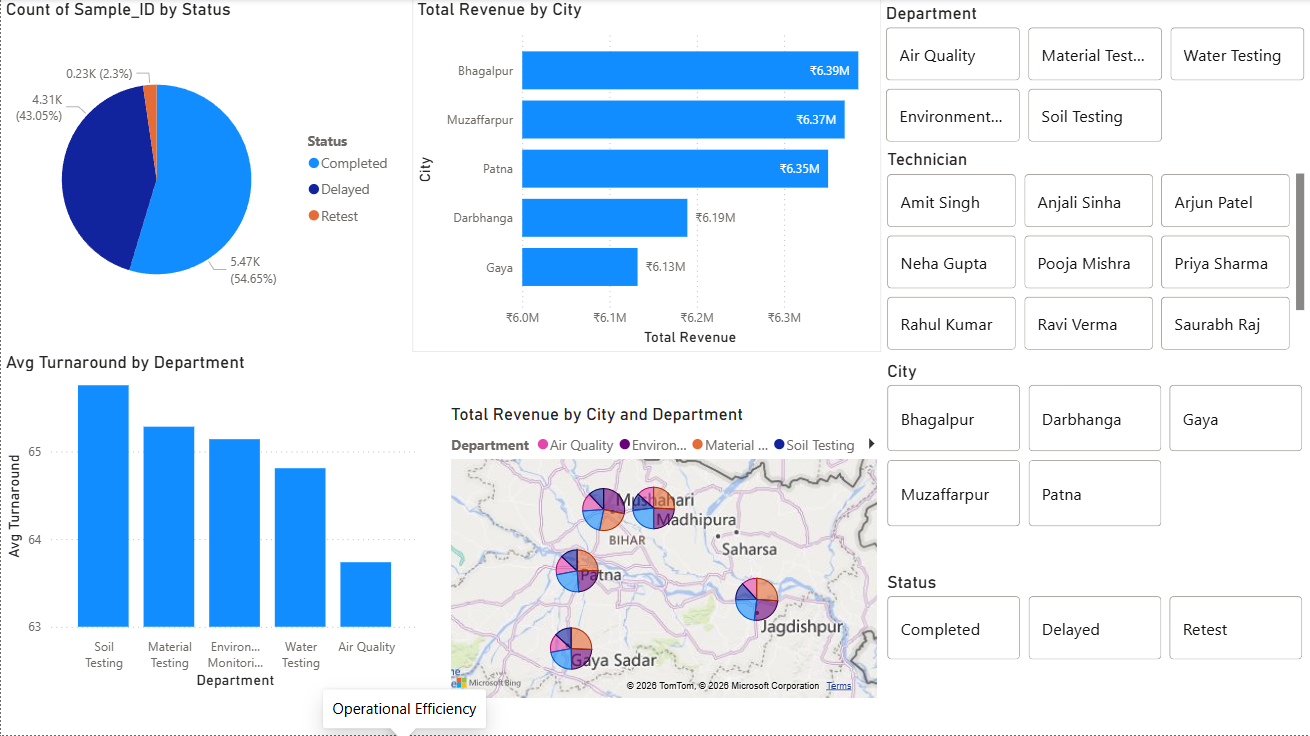

What the dashboard file says about the page in this screenshot:
{"tool":"powerbi","page":{"name":"Operational Efficiency","canvas":[1280,720],"ordinal":2},"visuals":[{"type":"pieChart","fields":{"Category":["laboratory_operations.Status"],"Y":["CountNonNull(laboratory_operations.Sample_ID)"]},"box":[0,0,392.9,334.3],"z":0},{"type":"columnChart","fields":{"Category":["laboratory_operations.Department"],"Y":["laboratory_operations.Avg Turnaround"]},"box":[0,344.3,414.3,334.3],"z":1000},{"type":"clusteredBarChart","fields":{"Category":["laboratory_operations.City"],"Y":["laboratory_operations.Total Revenue"]},"box":[402.9,0,458.6,344.3],"z":2000},{"type":"map","fields":{"Category":["laboratory_operations.City"],"Series":["laboratory_operations.Department"],"Size":["laboratory_operations.Total Revenue"]},"box":[435.3,396.2,426.8,292.3],"z":3000},{"type":"advancedSlicerVisual","fields":{"Values":["laboratory_operations.Department"]},"box":[860.6,3.7,419.4,141.8],"z":4000},{"type":"advancedSlicerVisual","fields":{"Values":["laboratory_operations.Technician"]},"box":[861.8,146.7,418.2,201.8],"z":5000},{"type":"advancedSlicerVisual","fields":{"Values":["laboratory_operations.City"]},"box":[861.8,353.4,418.2,167.5],"z":6000},{"type":"advancedSlicerVisual","fields":{"Values":["laboratory_operations.Status"]},"box":[862.1,560.1,418.2,91.7],"z":7000}]}

Visuals, with their boxes in screenshot pixels (x1, y1, x2, y2), scaled from the page's 1280x720 canvas onto the 1310x736 screenshot:
pieChart - laboratory_operations.Status x CountNonNull(laboratory_operations.Sample_ID): BBox(0, 0, 402, 342)
columnChart - laboratory_operations.Department x laboratory_operations.Avg Turnaround: BBox(0, 352, 424, 694)
clusteredBarChart - laboratory_operations.City x laboratory_operations.Total Revenue: BBox(412, 0, 882, 352)
map - laboratory_operations.City x laboratory_operations.Department: BBox(446, 405, 882, 704)
advancedSlicerVisual - laboratory_operations.Department: BBox(881, 4, 1309, 149)
advancedSlicerVisual - laboratory_operations.Technician: BBox(882, 150, 1309, 356)
advancedSlicerVisual - laboratory_operations.City: BBox(882, 361, 1309, 532)
advancedSlicerVisual - laboratory_operations.Status: BBox(882, 573, 1309, 666)
